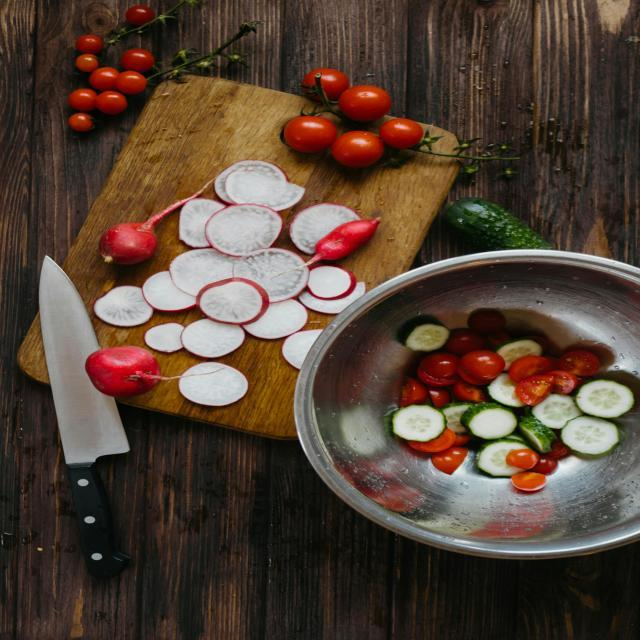knife: (36, 256, 131, 582)
